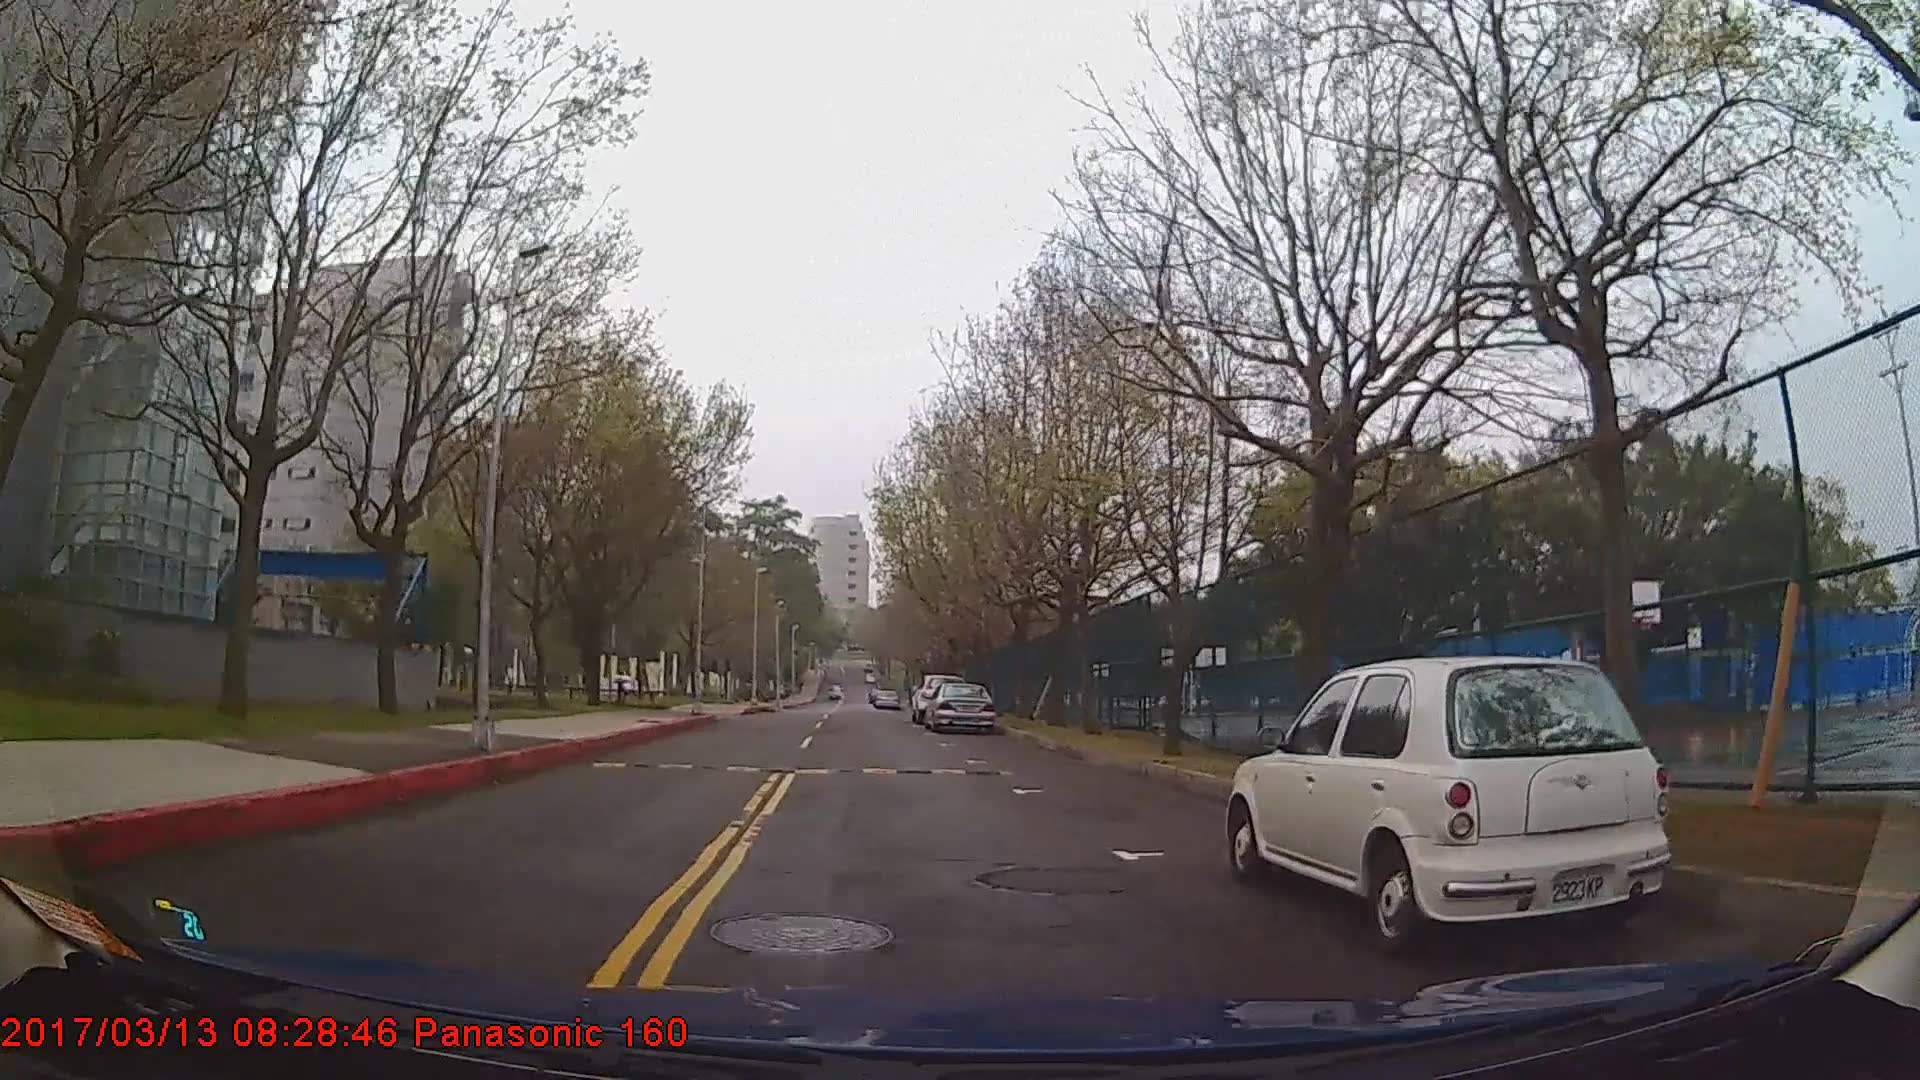vehicle: (1226, 653, 1677, 951), (924, 678, 1000, 731)
